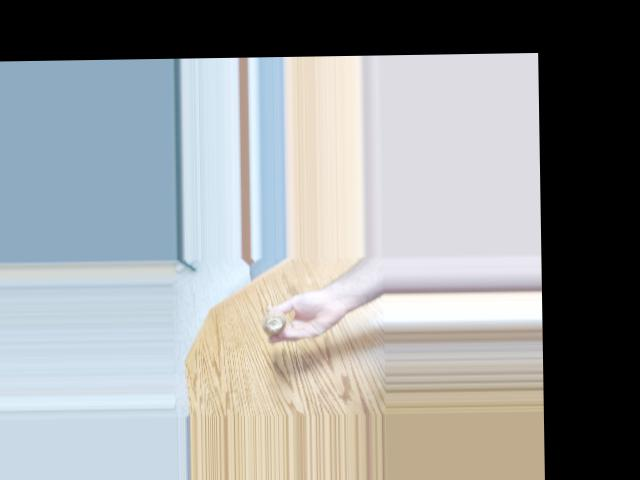sweet_potato: (255, 308, 286, 332)
